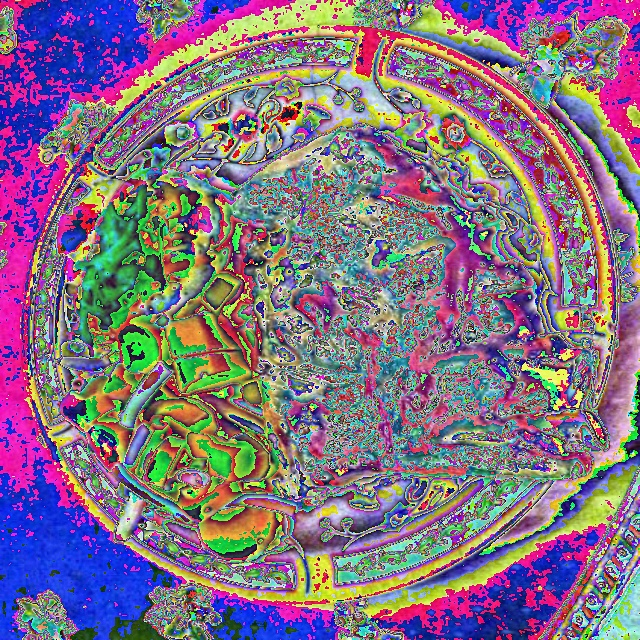background: (56, 123, 609, 563)
